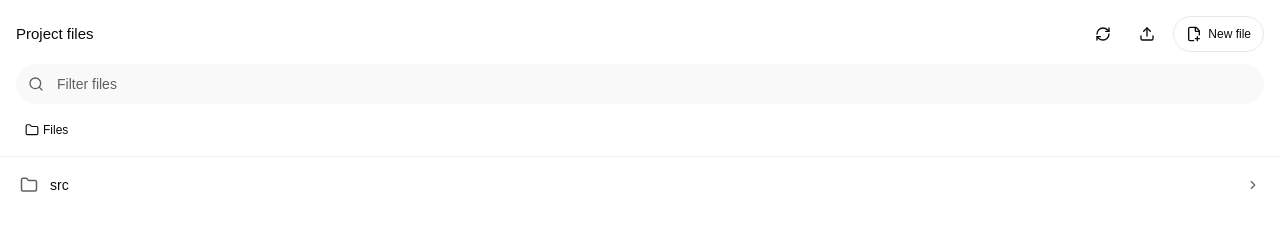
Test: Canvas file navigation › folder breadcrumbs return to the selected ancestor and clear the local filter
This screenshot has width=1280, height=232.
Click the button "src".
click(29, 185)  # box [8, 165, 1272, 205]
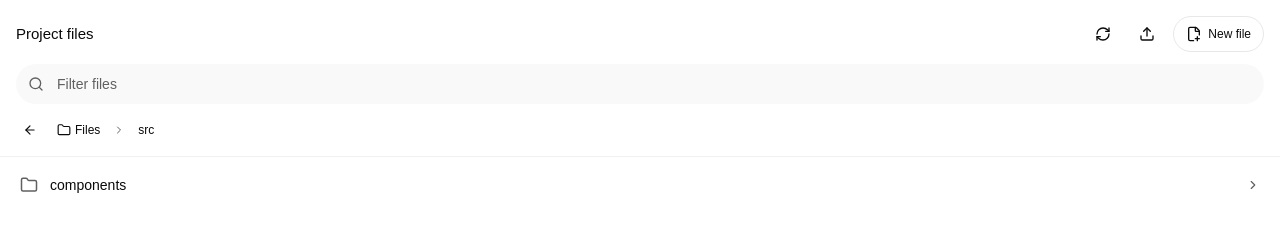
Click the button "components".
click(88, 185)  # box [8, 165, 1272, 205]
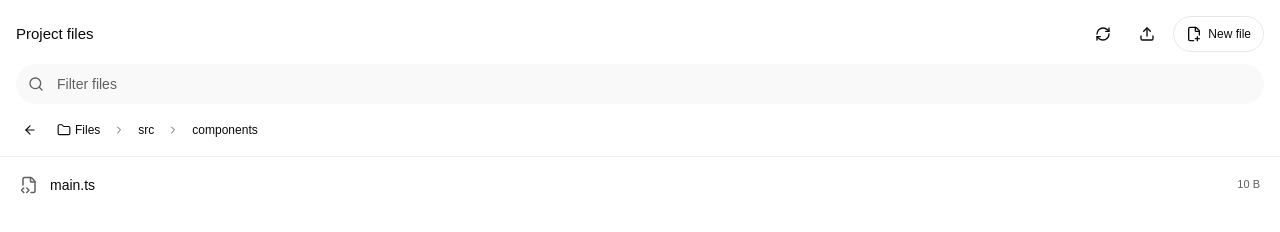
Type "missing" into the field labelled "Filter files".
click(640, 84); type("missing")  # box [16, 64, 1264, 104]
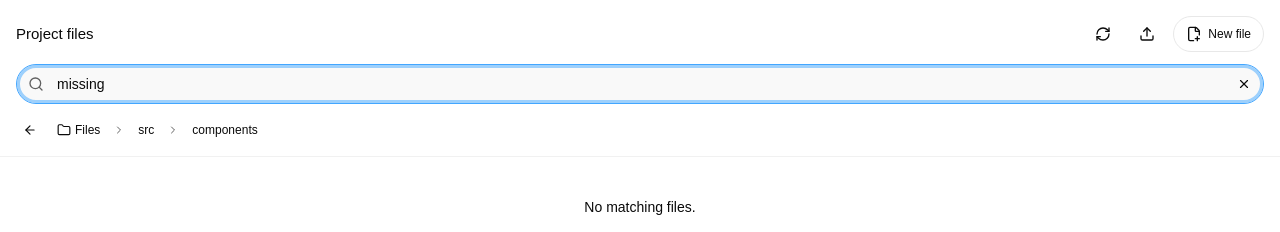
Check: the text "No matching files." is shown, box [584, 199, 696, 215]
Click the button with aria-label "Open folder src".
click(146, 130)  # box [129, 116, 163, 144]
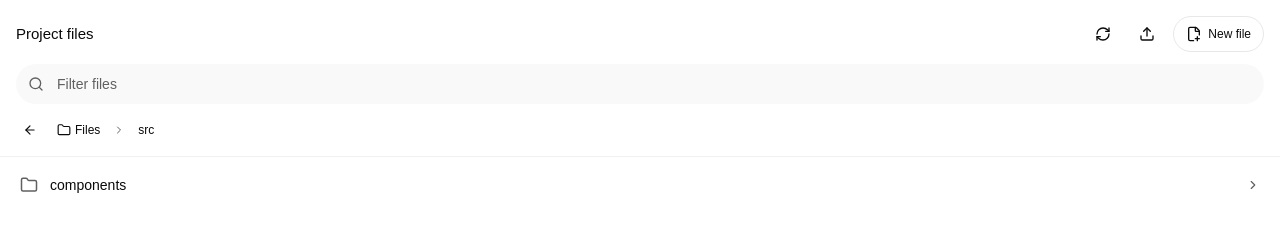
Check: the button "components" is shown, box [8, 165, 1272, 205]
Check: the field labelled "Filter files" is empty, box [16, 64, 1264, 104]
